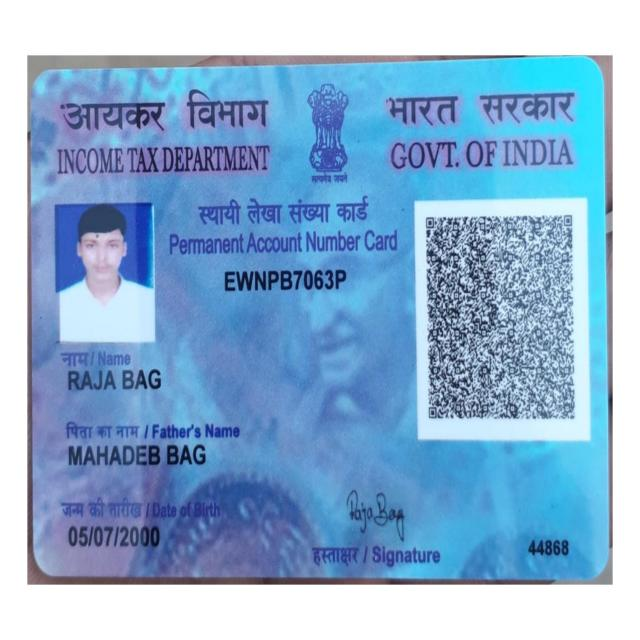pan_card: (33, 64, 604, 569)
